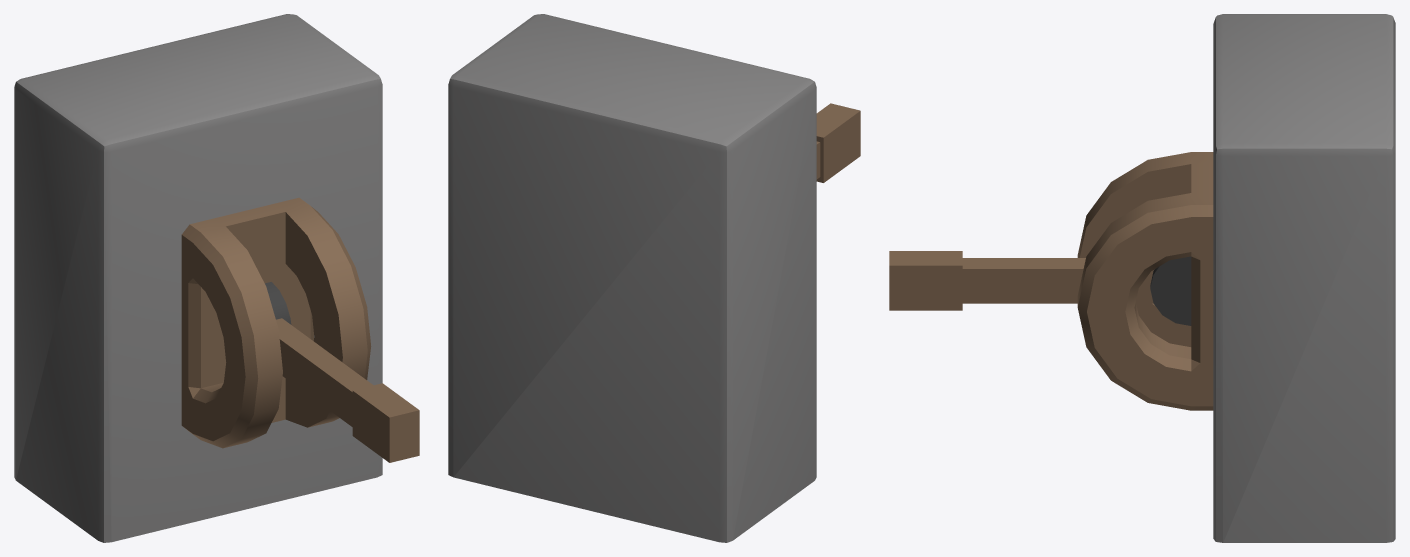
The model's file is LeverSkeletoNew.fbx.
The picture shows the model from 3 angles, left to right: view 1: azimuth 30°, elevation 25°; view 2: azimuth 150°, elevation 25°; view 3: azimuth 270°, elevation 25°; orthographic projection.
Visible parts, largest first — view 1: Lever_main, lever, Cube.001, Cube_1; view 2: Lever_main, Cube.001; view 3: Lever_main, lever, Cube.001.
Boxes of the visible parts, x1,y1,x2,y2 form: Lever_main: (14, 14, 382, 542); lever: (276, 318, 373, 426); Cube.001: (352, 383, 418, 462); Cube_1: (389, 410, 419, 462); Lever_main: (448, 14, 816, 542); Cube.001: (816, 103, 860, 182); Lever_main: (1077, 14, 1395, 542); lever: (962, 258, 1154, 303); Cube.001: (889, 251, 962, 310).
Size of the model in its own units: 32.97 by 44.45 by 51.61.
